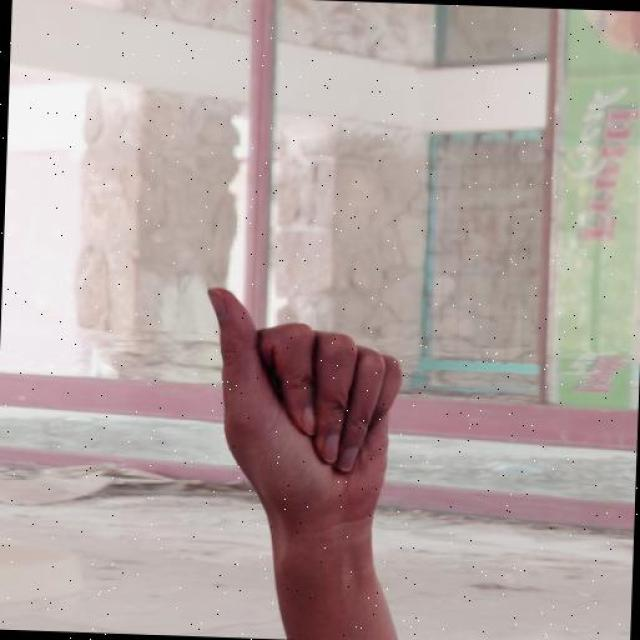A: (197, 282, 406, 539)
